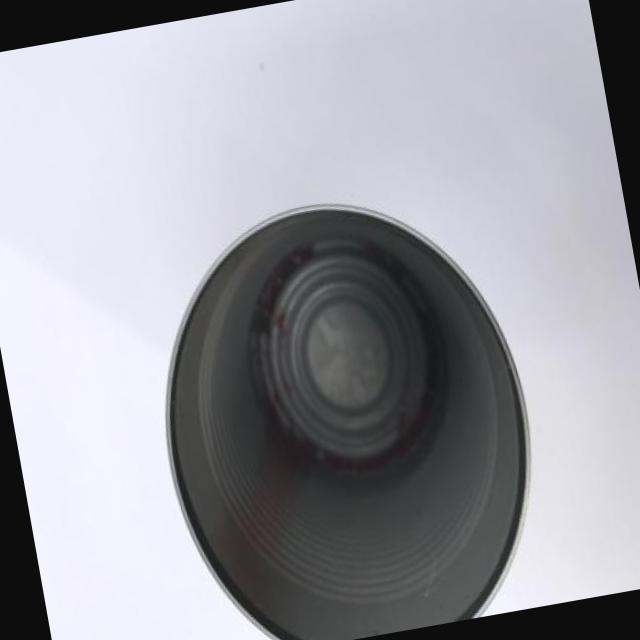metal: (166, 205, 530, 639)
